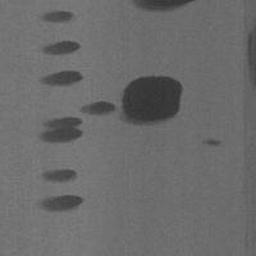Oil spot: (36, 76, 183, 145), (32, 193, 84, 214), (131, 0, 197, 14), (37, 69, 84, 87), (35, 40, 82, 56), (40, 168, 78, 186), (36, 9, 76, 23), (202, 137, 224, 148)
